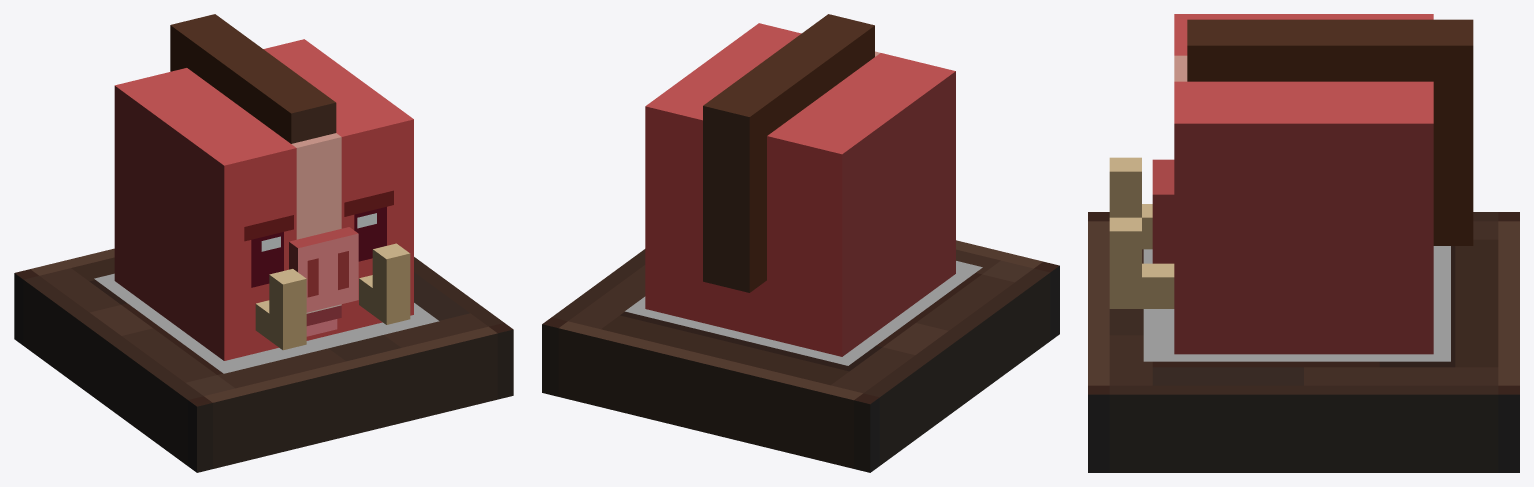
File: Tower_Frumpy_LVL3.fbx
3 renders of one model, left to right at view 1: azimuth 30°, elevation 25°; view 2: azimuth 150°, elevation 25°; view 3: azimuth 270°, elevation 25°, orthographic. The views are drawn at different scales.
Visible parts, largest first — view 1: Body, Base, Shadow; view 2: Body, Base, Shadow; view 3: Body, Base, Shadow.
Part boxes in pixels (x1,y1,x2,y2): Body: [114, 14, 413, 360]; Base: [14, 248, 513, 472]; Shadow: [94, 273, 439, 373]; Body: [645, 14, 955, 356]; Base: [542, 240, 1059, 472]; Shadow: [625, 261, 982, 365]; Body: [1109, 14, 1473, 354]; Base: [1088, 212, 1519, 472]; Shadow: [1143, 246, 1450, 361].
Bounding box in the file's own units: 100 × 89.2 × 100.
